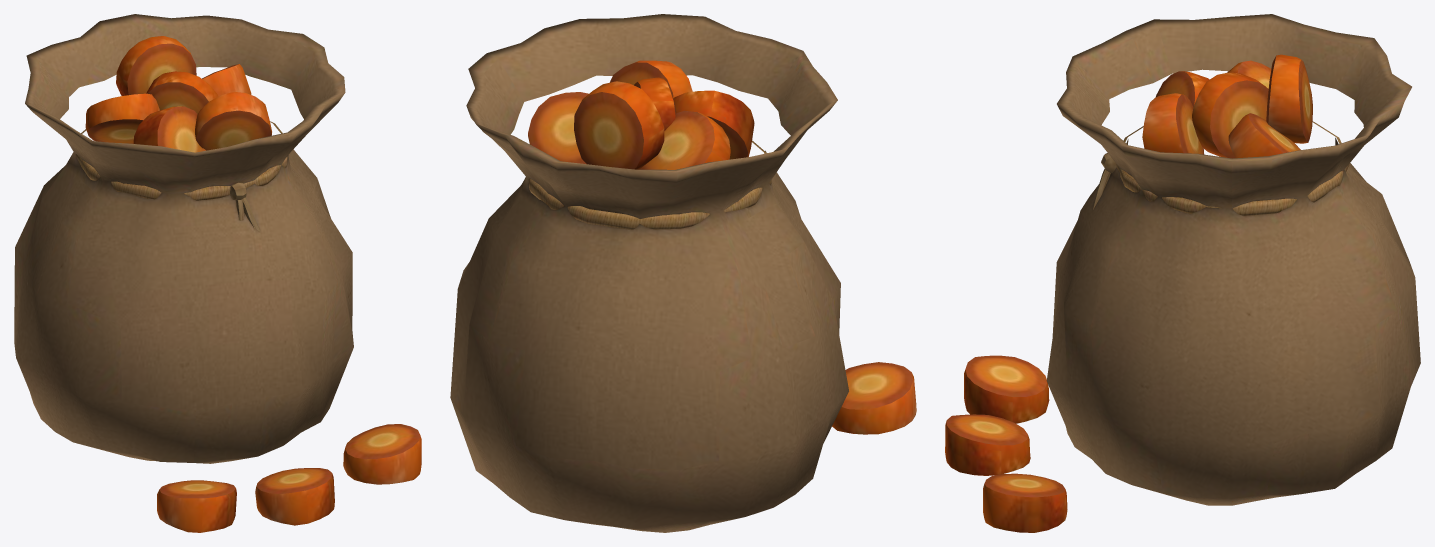
The model's file is ammo_shells.glb.
The picture shows the model from 3 angles, left to right: view 1: azimuth 30°, elevation 25°; view 2: azimuth 150°, elevation 25°; view 3: azimuth 270°, elevation 25°; orthographic projection. The views are drawn at different scales.
Visible parts, largest first — view 1: ammo_shells; view 2: ammo_shells; view 3: ammo_shells.
Boxes of the visible parts, box(x1,y1,x2,y2) form: ammo_shells: box(14, 14, 421, 532); ammo_shells: box(450, 14, 916, 532); ammo_shells: box(945, 14, 1420, 532).
Bounding box in the file's own units: 0.2003 × 0.2379 × 0.253.
Materials: 1 (1 with a texture image).
